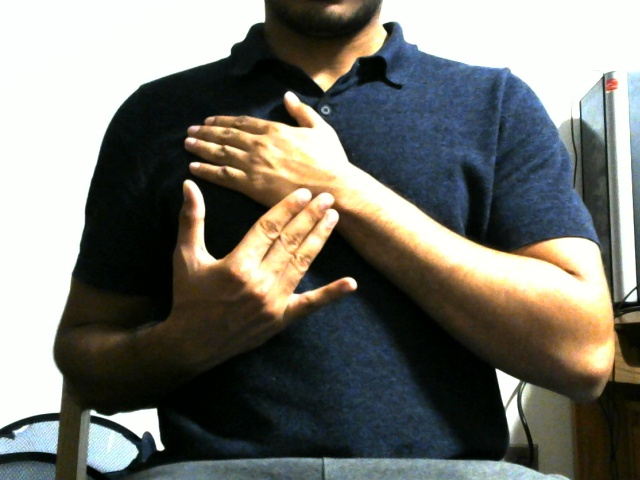blood: (122, 74, 457, 382)
